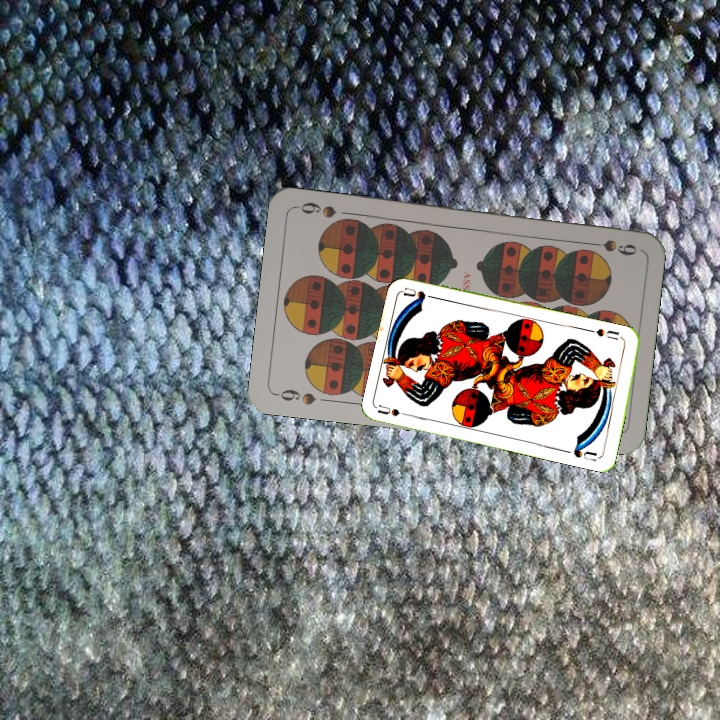S9: (581, 235, 639, 258), (272, 385, 319, 408)
SU: (375, 401, 416, 420), (592, 324, 622, 343)
